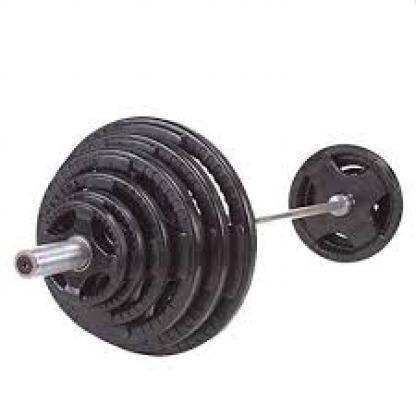barbell: (13, 113, 406, 359)
